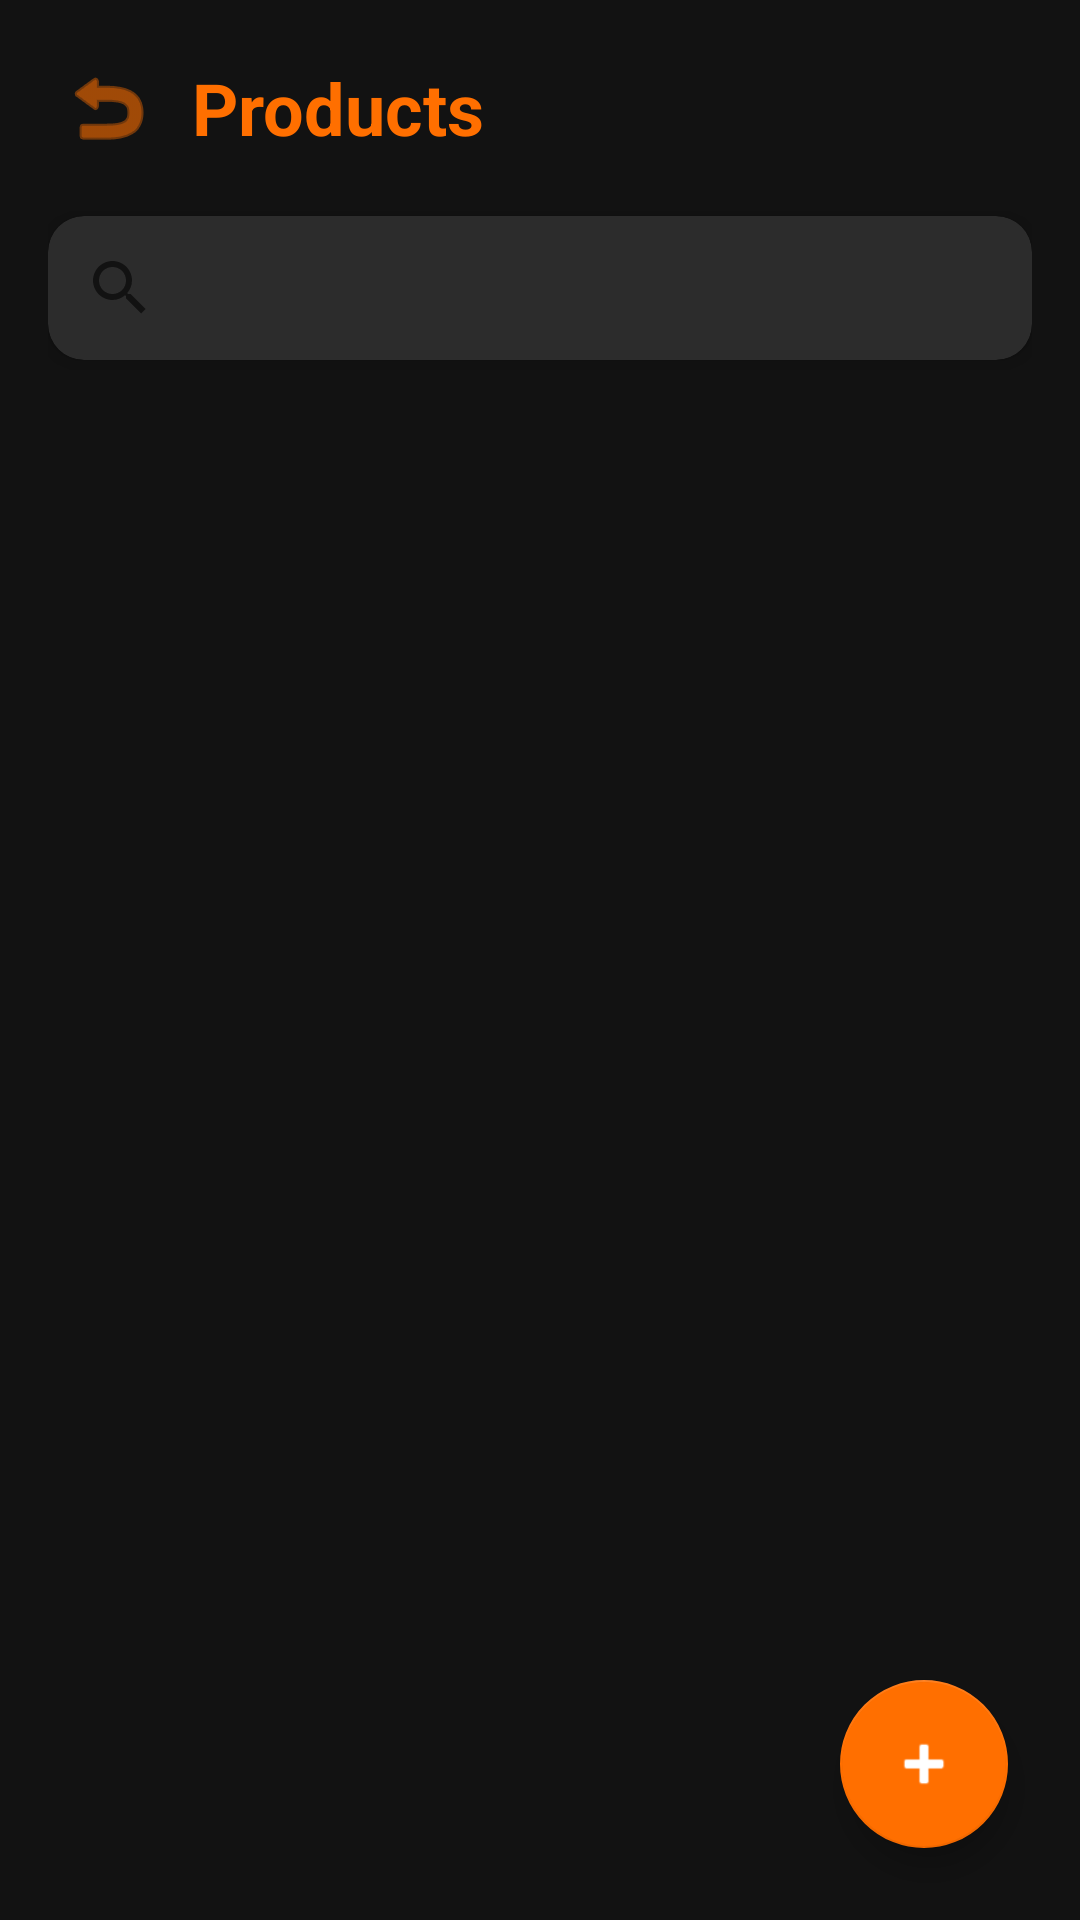

Named icons in this screenshot (1080x1920) and their bounding boxes, [x1=x1, y1=y1, x2=x2, y2=y2]:
Add Product: [x1=840, y1=1680, x2=1008, y2=1848]
Back: [x1=75, y1=77, x2=144, y2=140]
